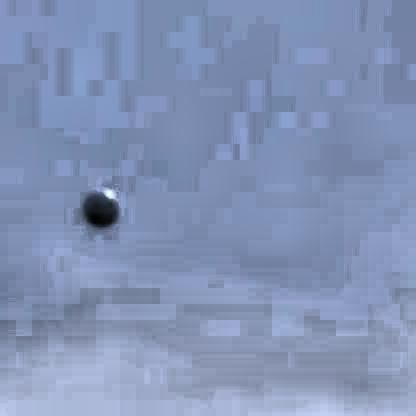golfball: (79, 187, 118, 226)
